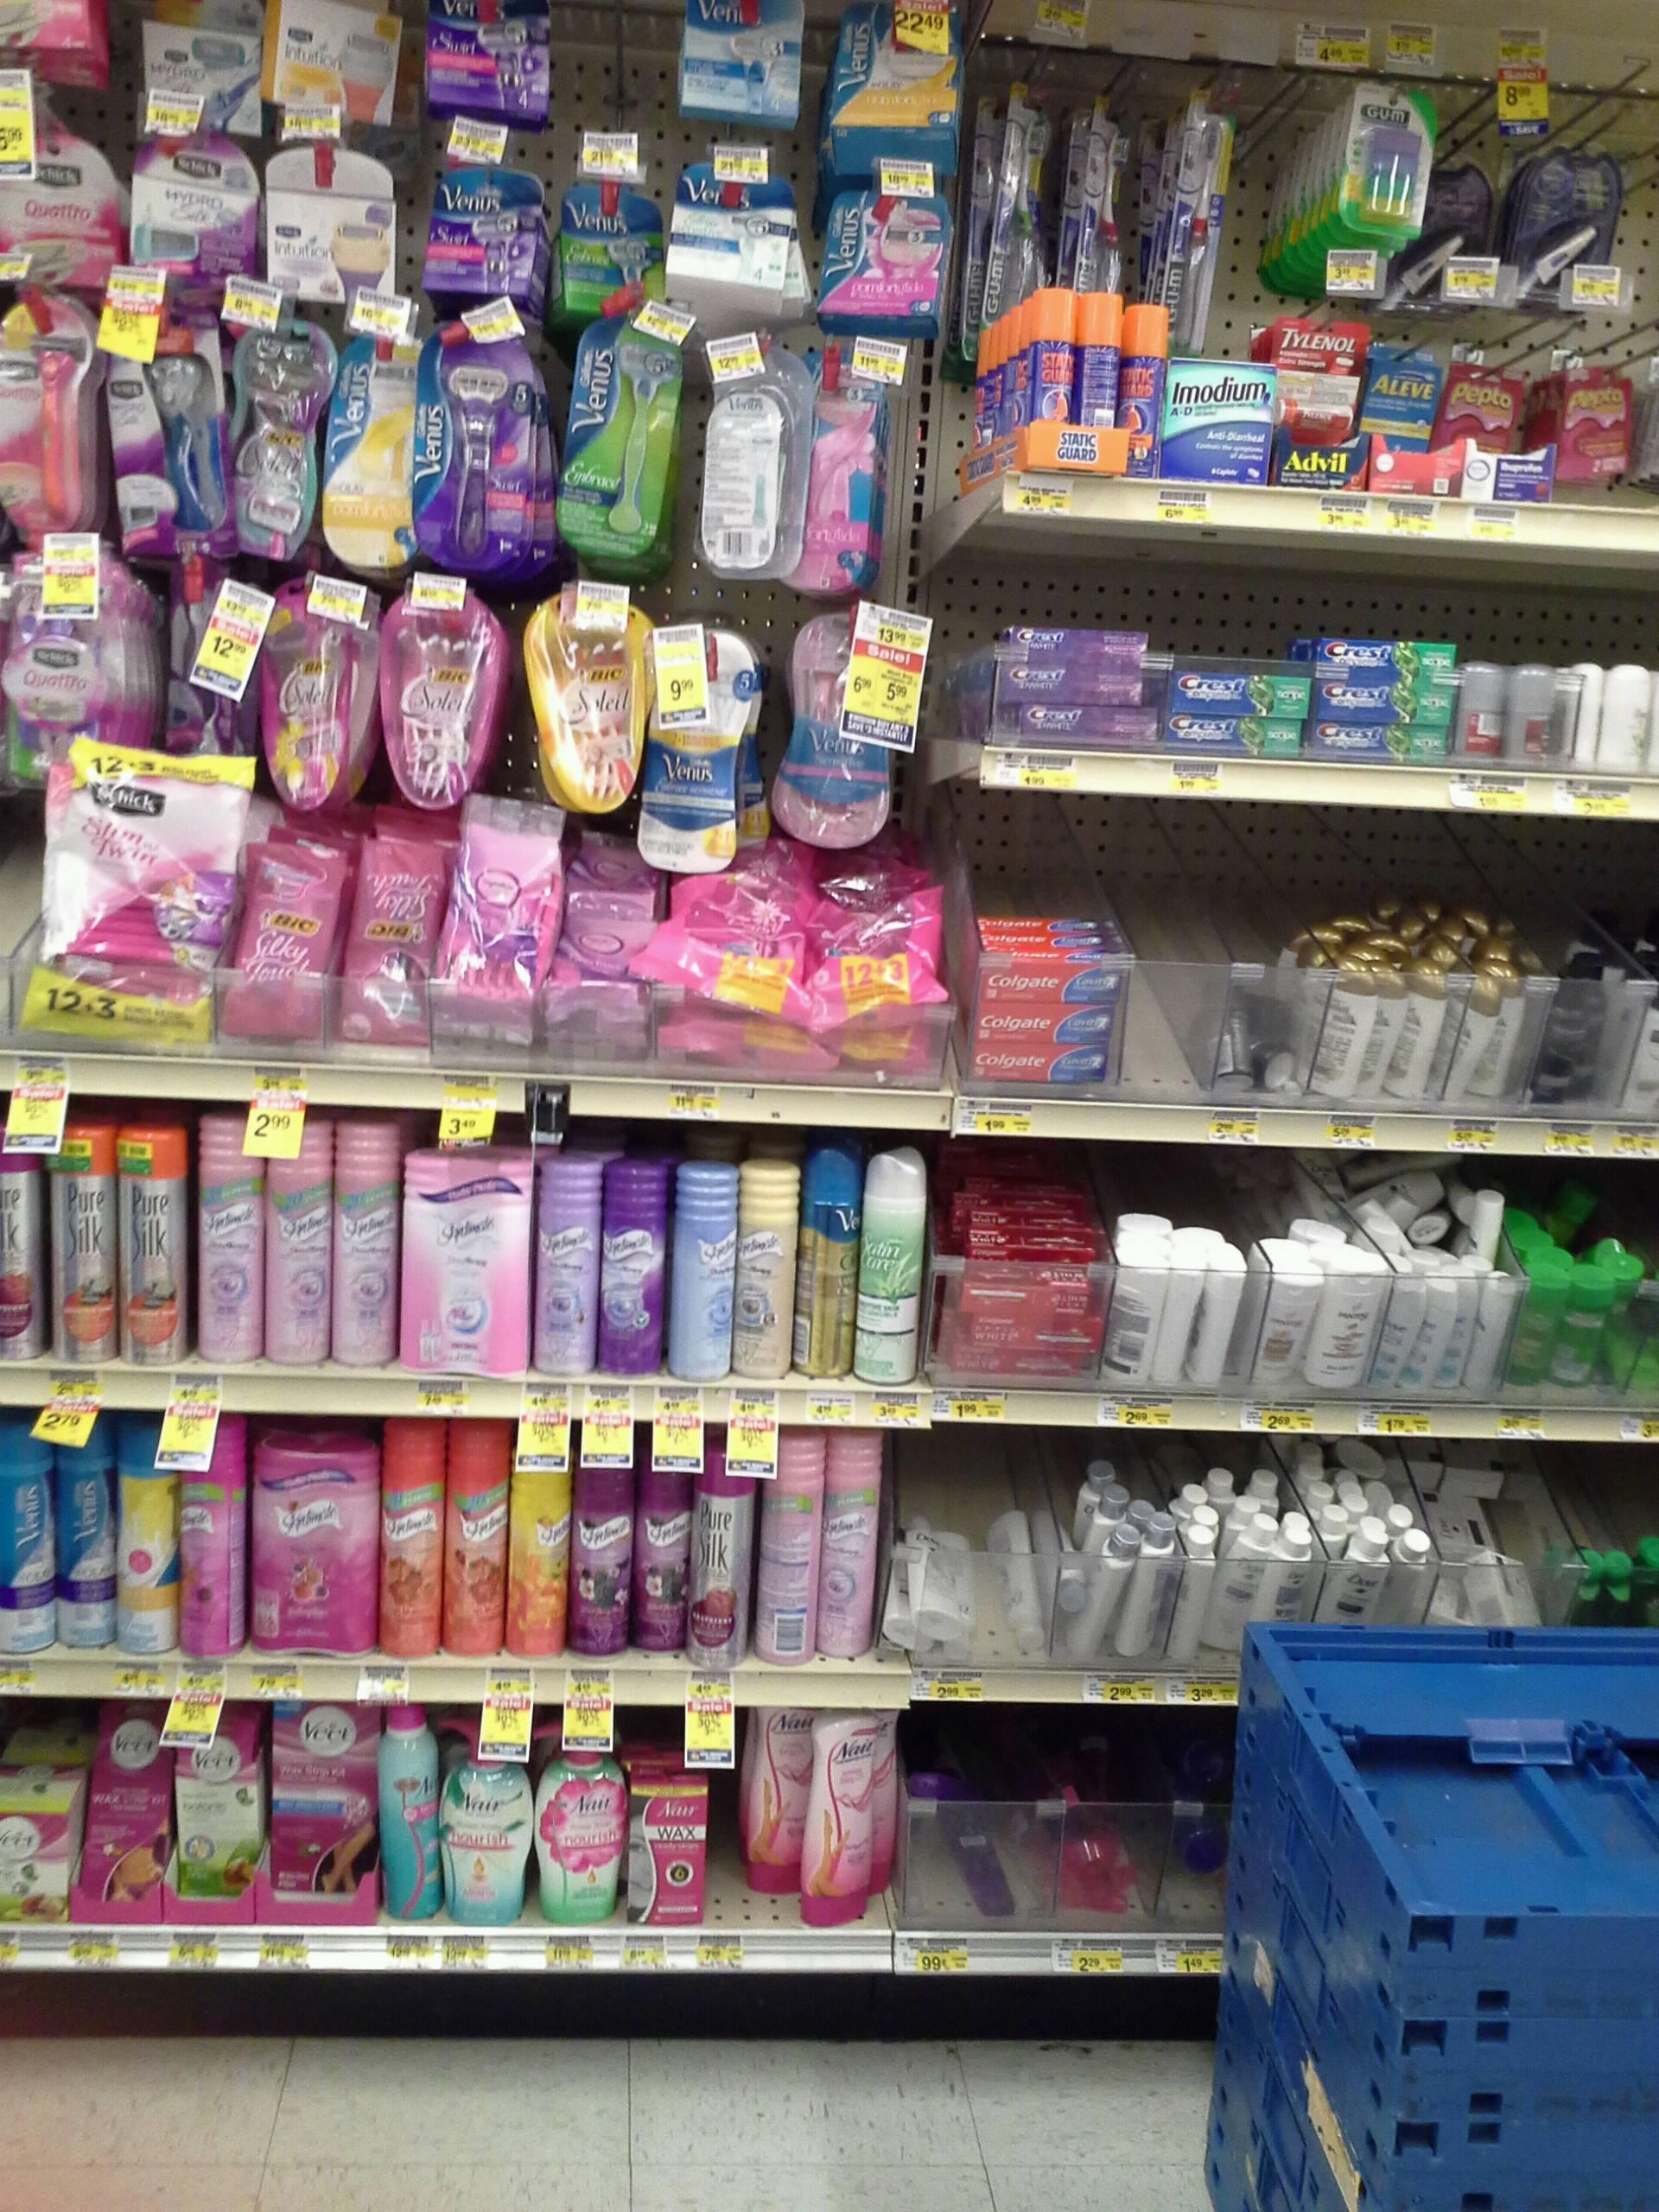misalignment: (890, 1496, 1042, 1658), (1213, 963, 1300, 1104)
